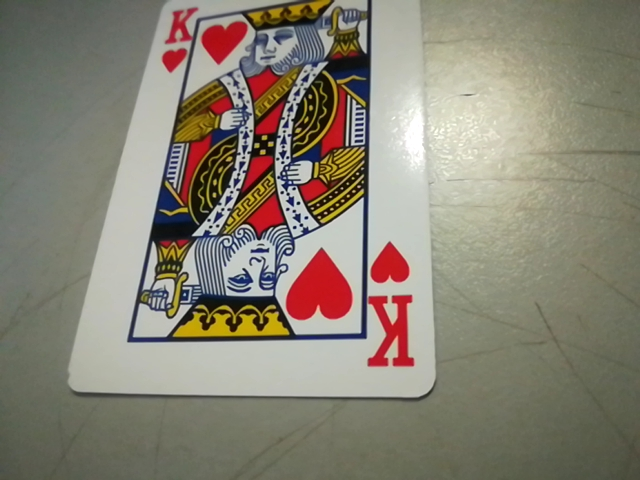hx k: (359, 239, 425, 378), (153, 3, 198, 77)
